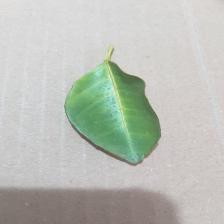greening: (55, 58, 169, 156)
